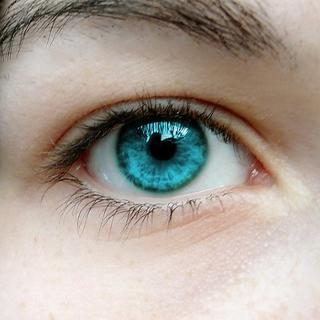pupil: (149, 131, 178, 160)
